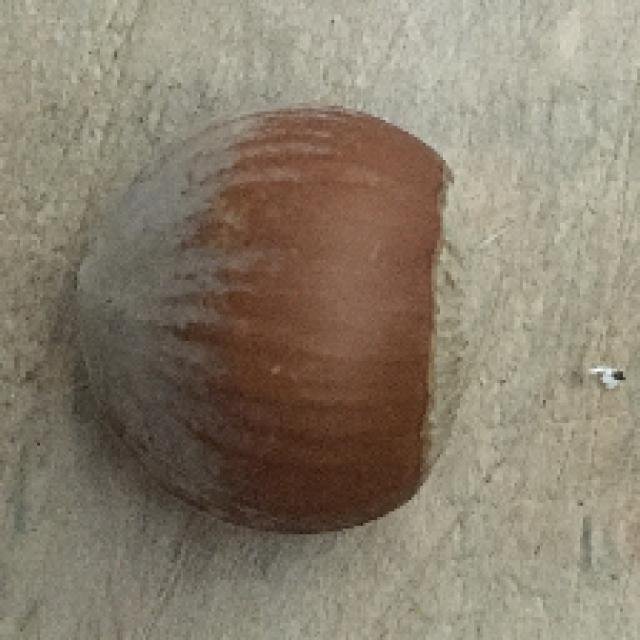qualityHazelnut: (73, 98, 488, 545)
